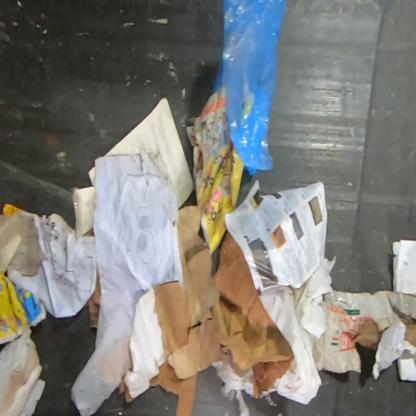cardboard: (312, 288, 415, 383), (123, 286, 166, 399), (392, 238, 415, 294)
soft_plastic: (212, 0, 295, 178)
